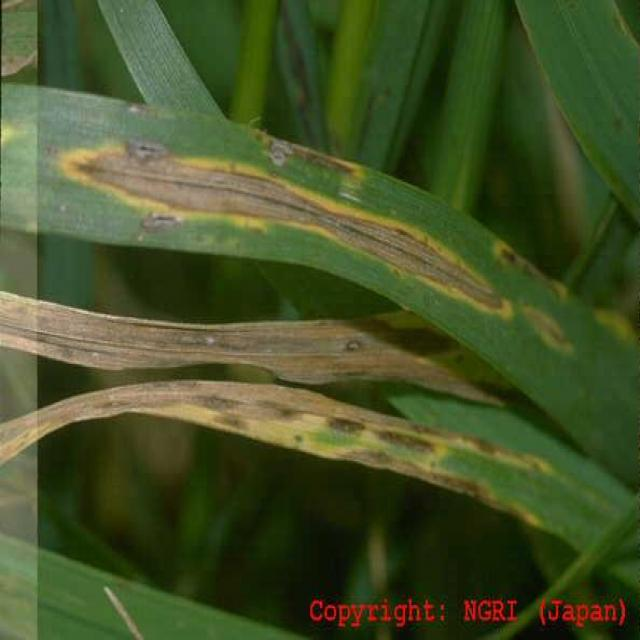blight: (82, 147, 315, 232)
